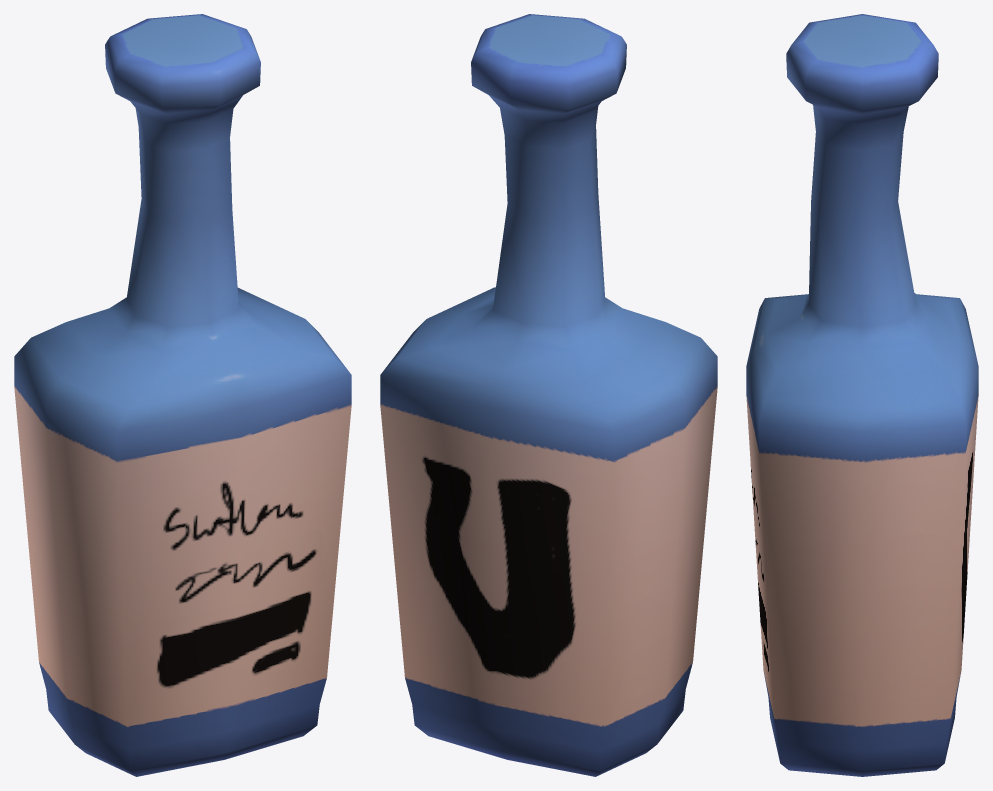
Rendered from Bottle.fbx.
3 renders of one model, left to right at view 1: azimuth 30°, elevation 25°; view 2: azimuth 150°, elevation 25°; view 3: azimuth 270°, elevation 25°, orthographic.
Parts seen in each view (by area): view 1: Bottle; view 2: Bottle; view 3: Bottle.
Part boxes in pixels (x1,y1,x2,y2): Bottle: (14,14,351,776); Bottle: (380,14,717,776); Bottle: (746,14,978,776).
Size of the model in its own units: 13.22 by 31.98 by 9.77.
1 material, 1 textured.
